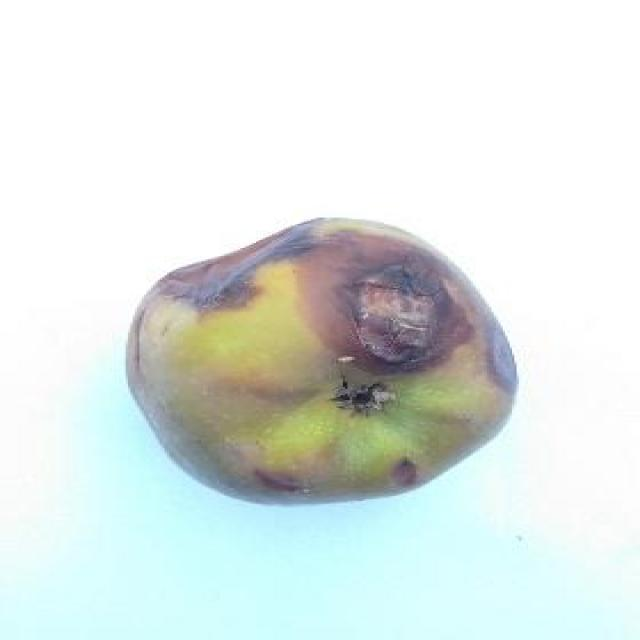Rotten: (123, 210, 527, 503)
